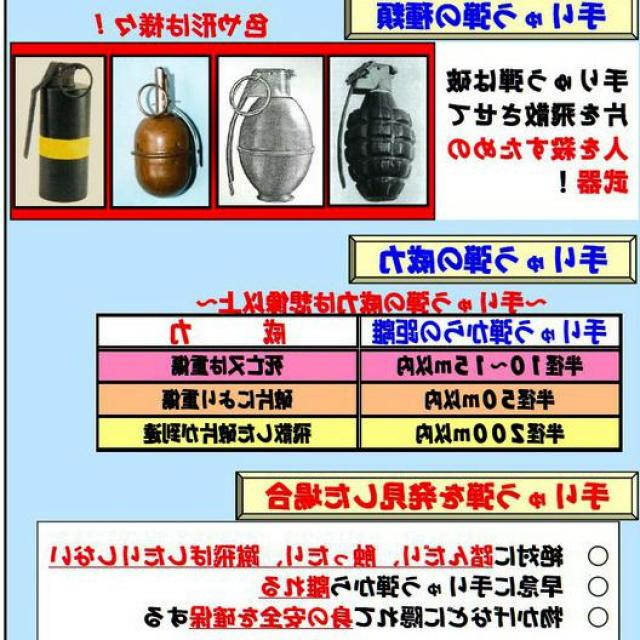grenade: (225, 68, 315, 206), (334, 62, 418, 205), (21, 62, 95, 204), (131, 68, 202, 200)
